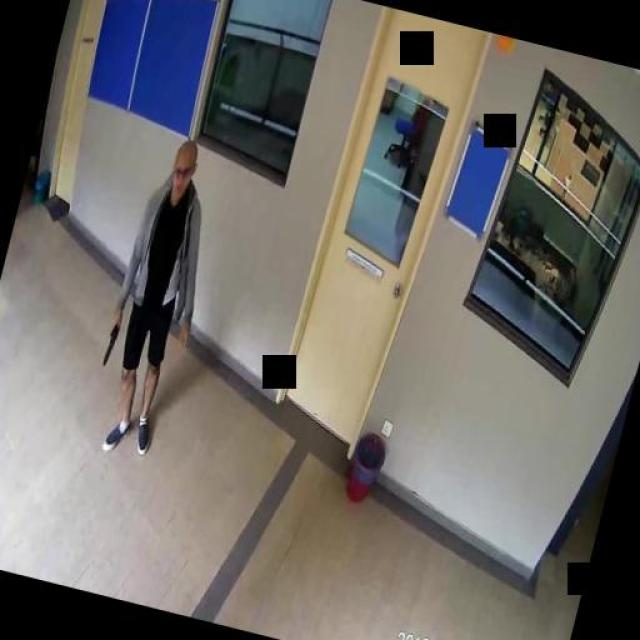gun: (100, 315, 121, 366)
